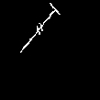treble_crochet: (21, 3, 59, 51)
